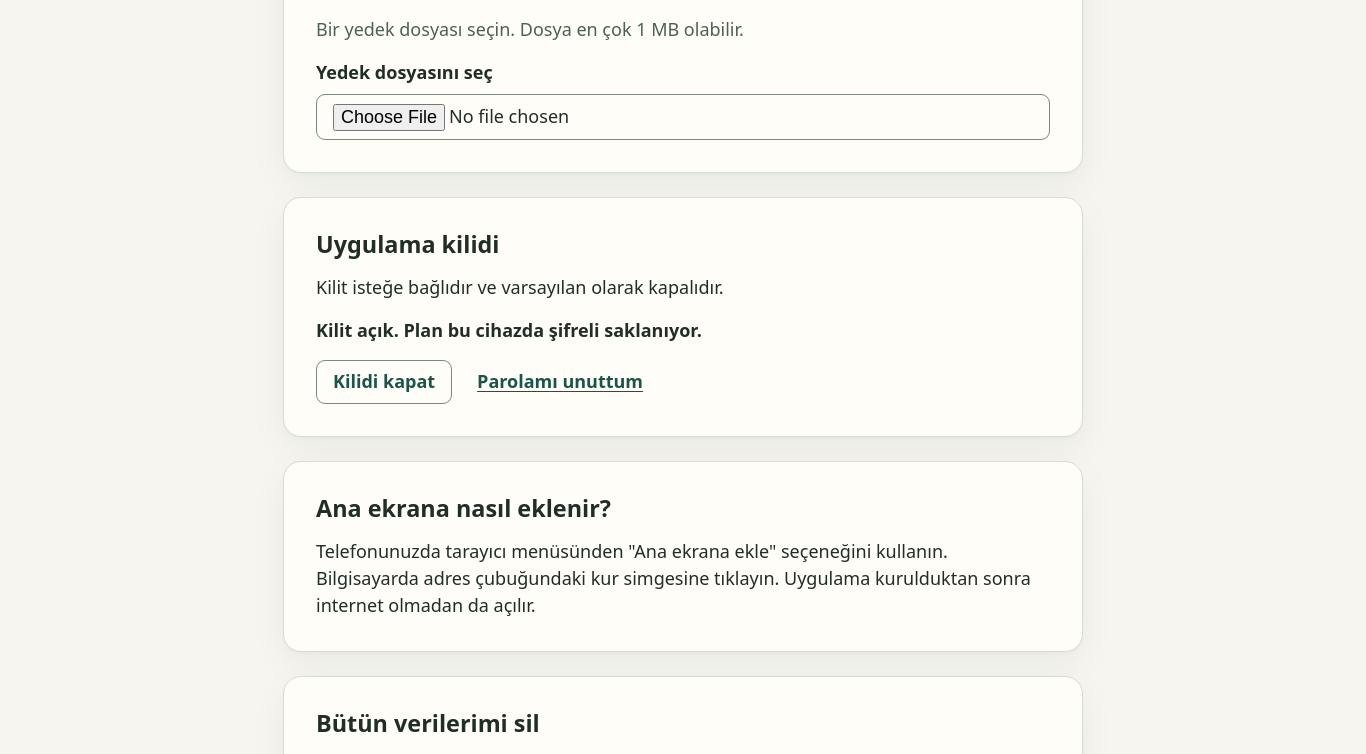
Test case: Settings — uygulama kilidi (§9.3) › "Parolamı unuttum" kurtarma olmadığını söyler ve yalnızca sıfırlamayı önerir
The width and height of the screenshot is (1366, 754).
Later steps or results of the test are not shown.
(page scrolled)
Click the button "Parolamı unuttum".
click(560, 382)  # box [460, 360, 660, 404]
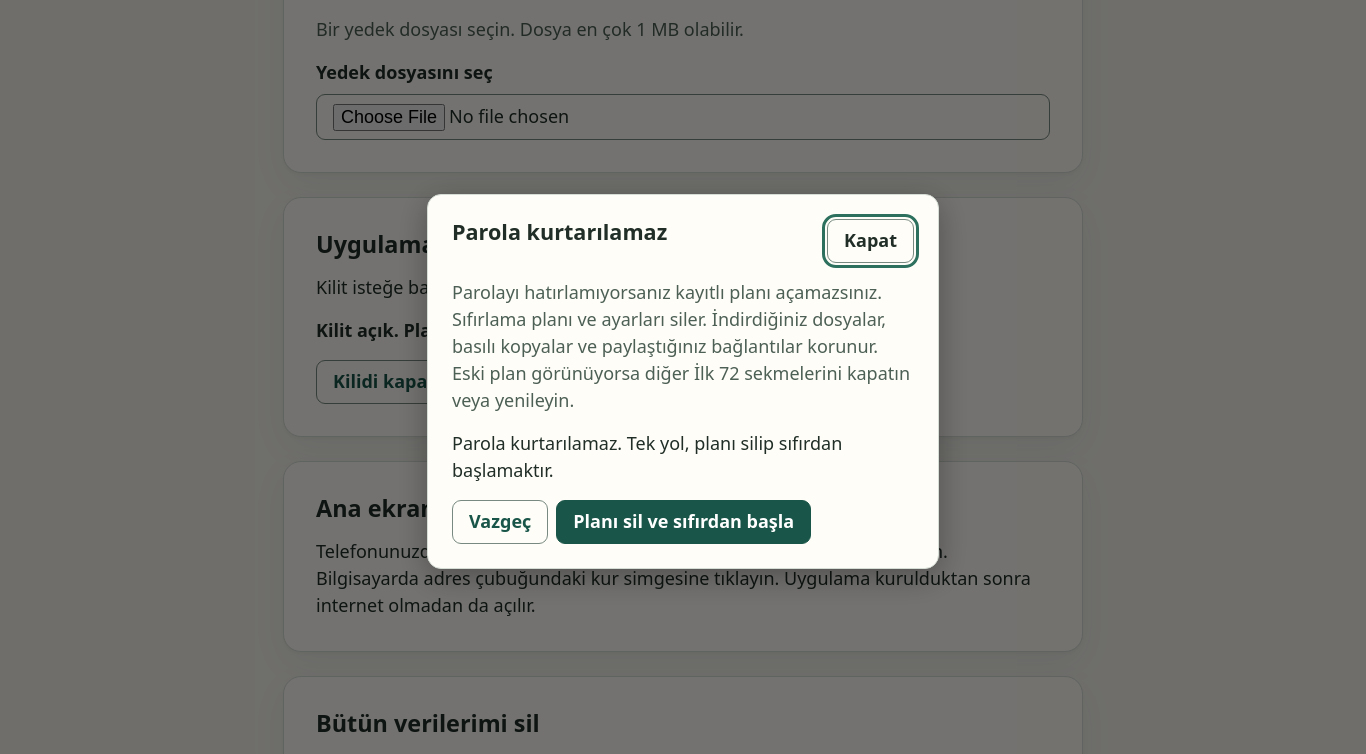
Check: the heading "Parola kurtarılamaz" is shown, box [452, 218, 667, 244]
Check: the text "Parolayı hatırlamıyorsanız kayıtlı planı açamazsınız. Sıfırlama planı ve ayarları siler. İndirdiğiniz dosyalar, basılı k" is shown, box [452, 280, 910, 412]
Check: the text "sıfırdan başlamaktır" is shown, box [452, 430, 842, 482]
